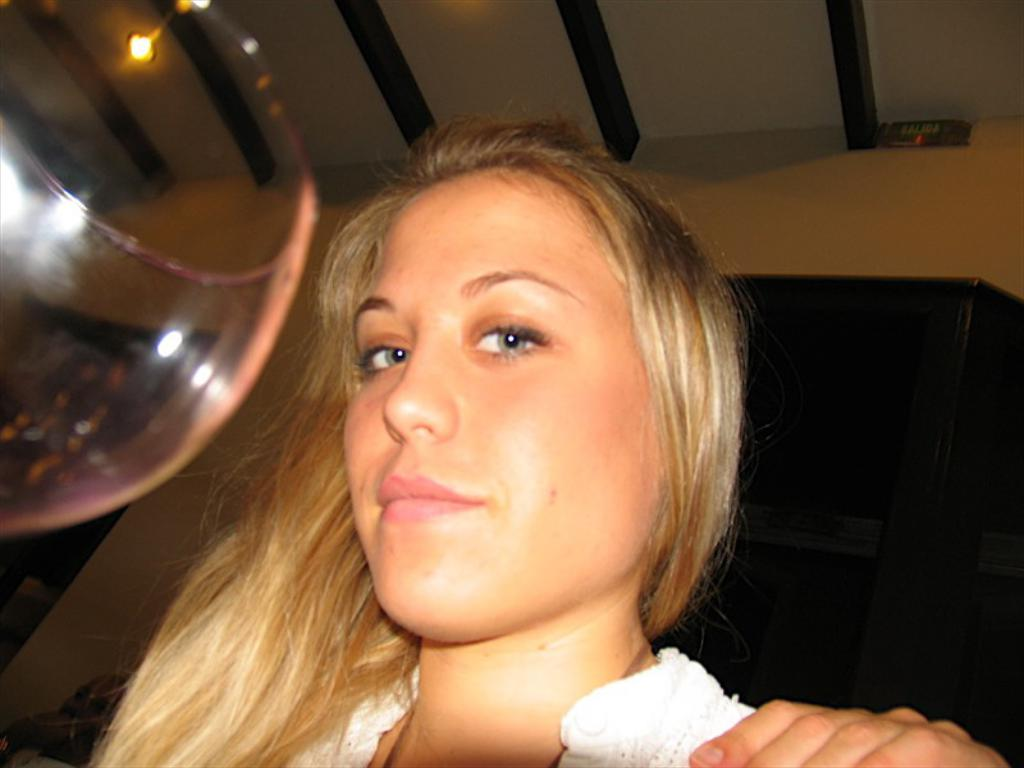face: (335, 140, 744, 648)
